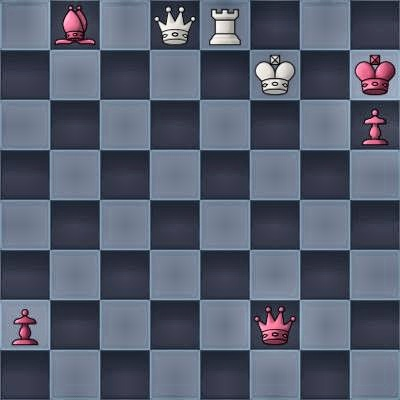black-bishop: (50, 0, 100, 50)
black-king: (350, 50, 400, 100)
black-pawn: (350, 100, 400, 150), (0, 300, 50, 350)
black-queen: (250, 300, 300, 350)
white-king: (250, 50, 300, 100)
white-queen: (150, 0, 200, 50)
white-rook: (200, 0, 250, 50)
